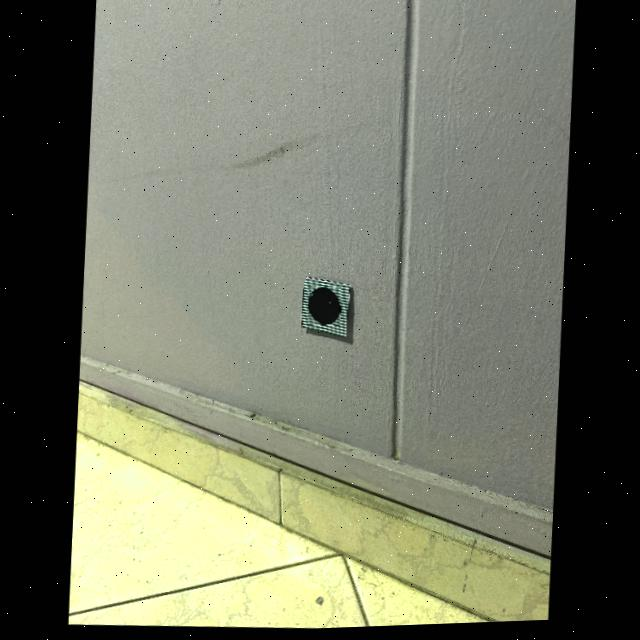CIRCLE: (309, 291, 340, 328)
